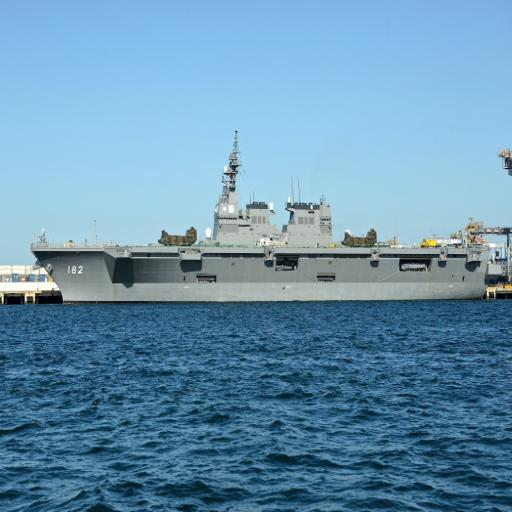Portanaves: (29, 126, 497, 311)
